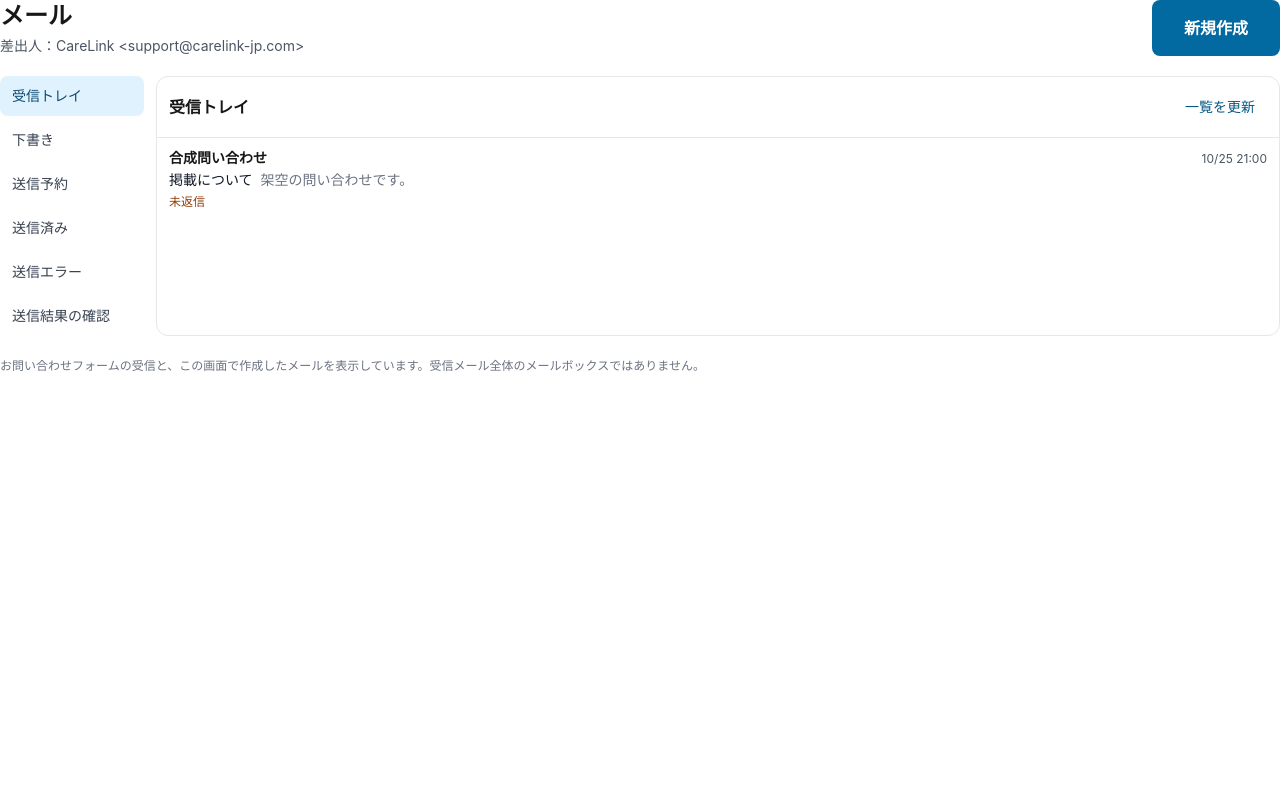
Scenario: unsaved edits are protected from navigation and reload
Check: the button "合成問い合わせ" is shown, box [157,138,1279,220]
Click the button "新規作成". click: (1216, 28)
box: [1152,0,1279,56]
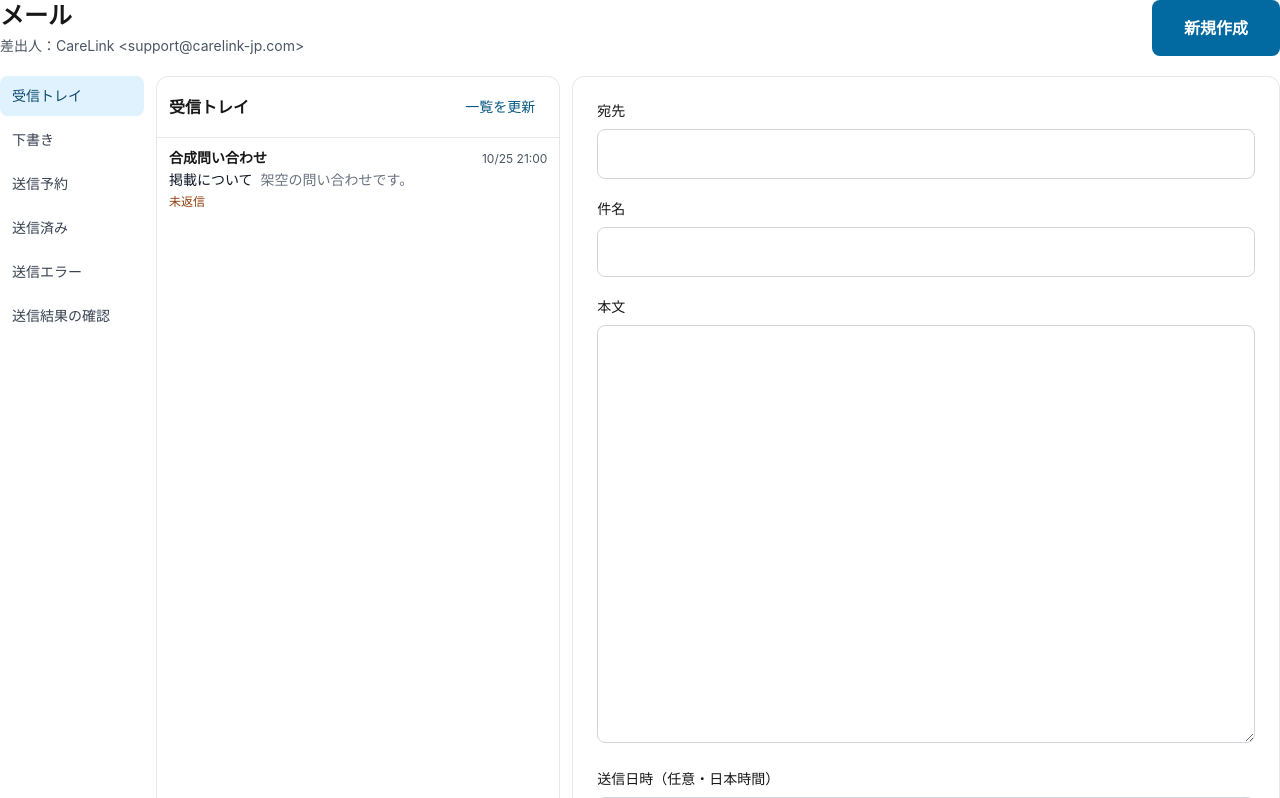
Type "synthetic@example.invalid" into the field labelled "宛先". click: (926, 154)
box: [597,129,1255,179]
Type "ご案内" into the field labelled "件名". click: (926, 252)
box: [597,227,1255,277]
Type "架空の本文" into the text box labelled "本文". click: (926, 534)
box: [597,325,1255,743]
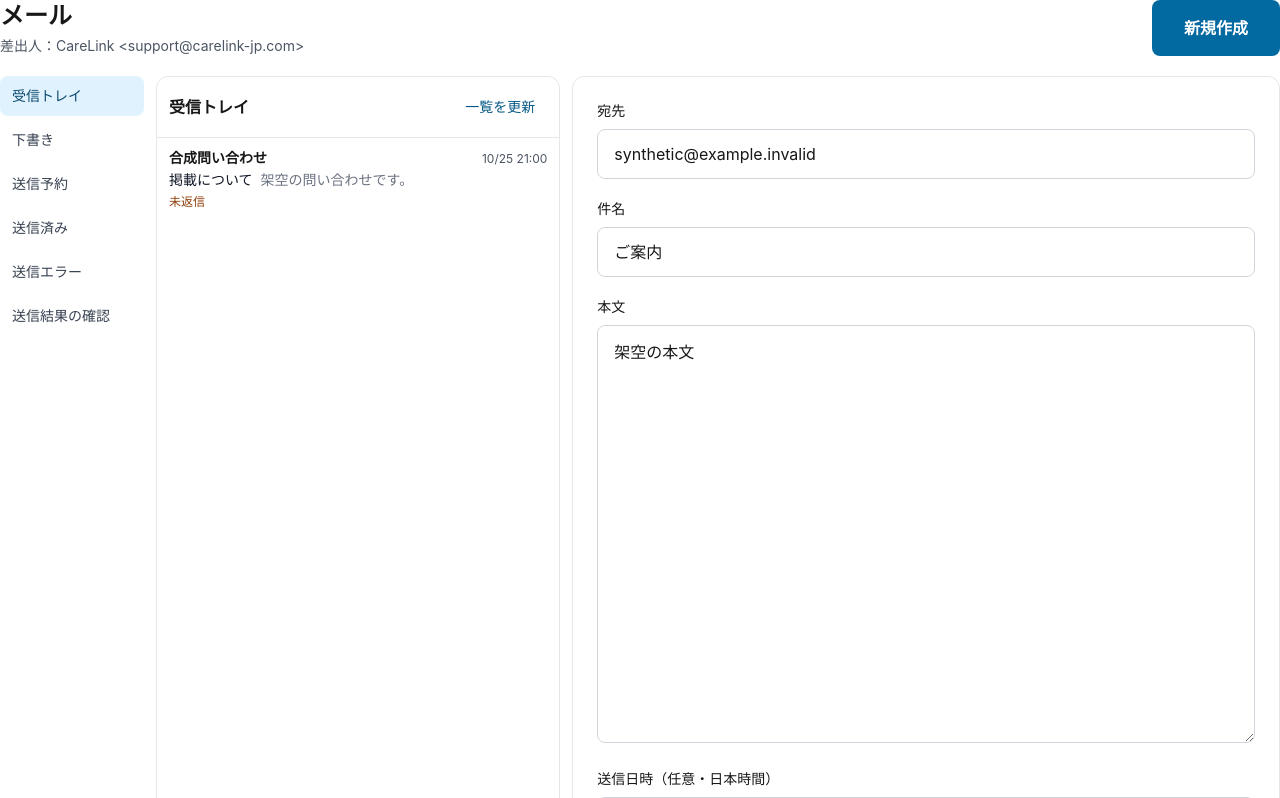
Click the button "下書き". click: (72, 140)
box: [0,120,144,160]
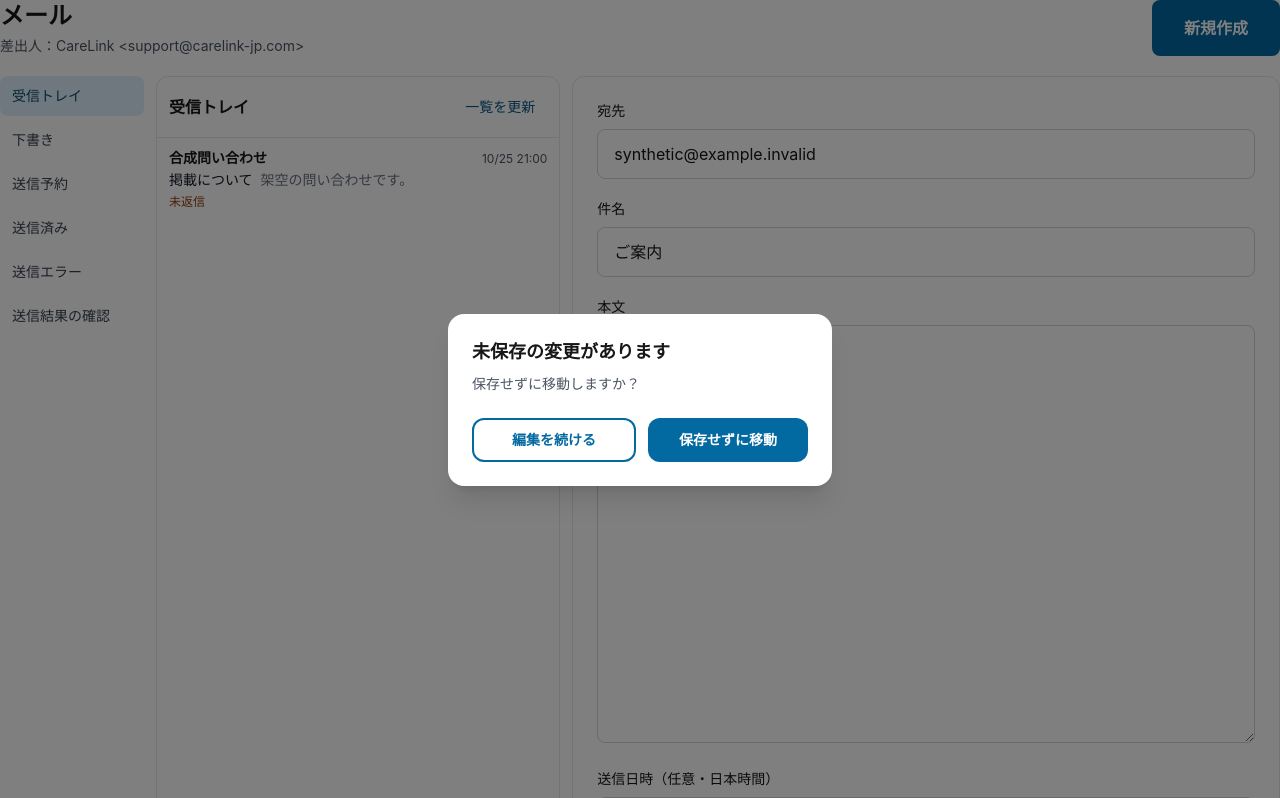
Click the button "編集を続ける". click: (554, 440)
box: [472,418,636,462]
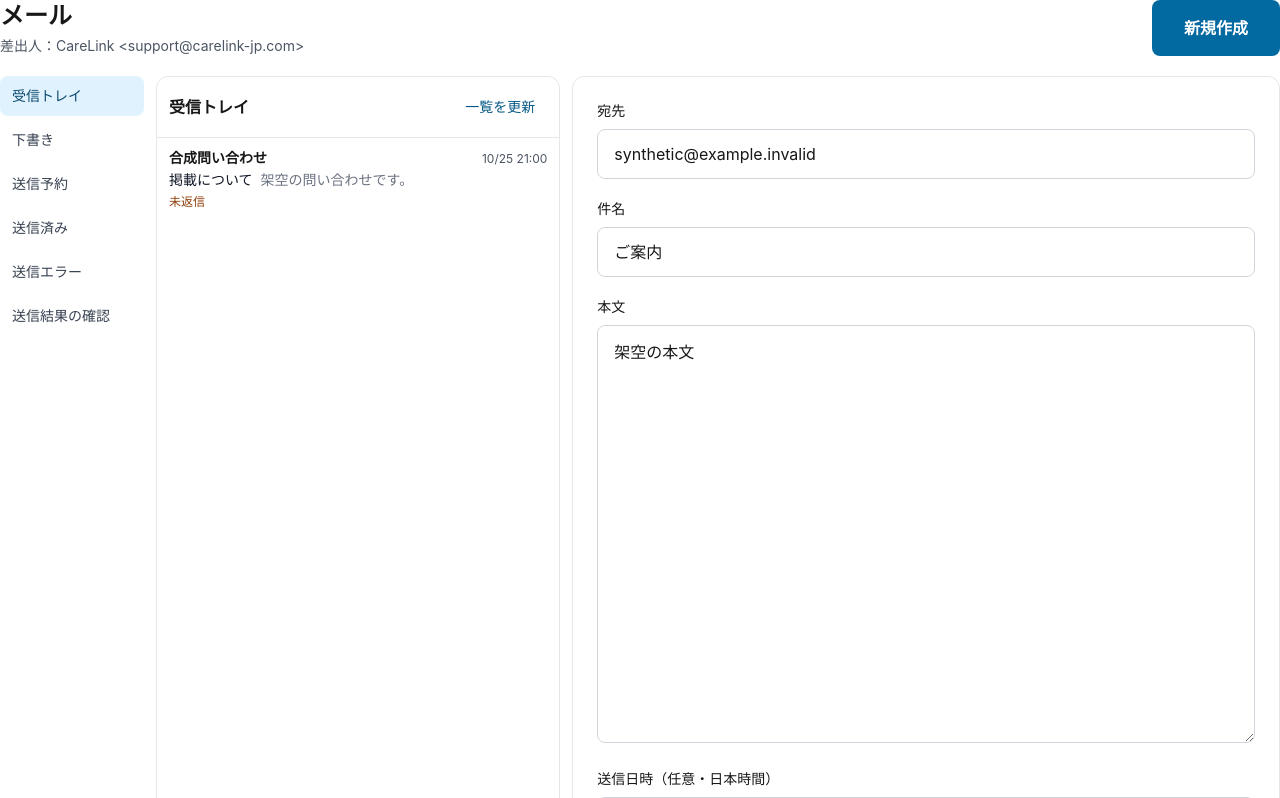
Click the button "下書き". click: (72, 140)
box: [0,120,144,160]
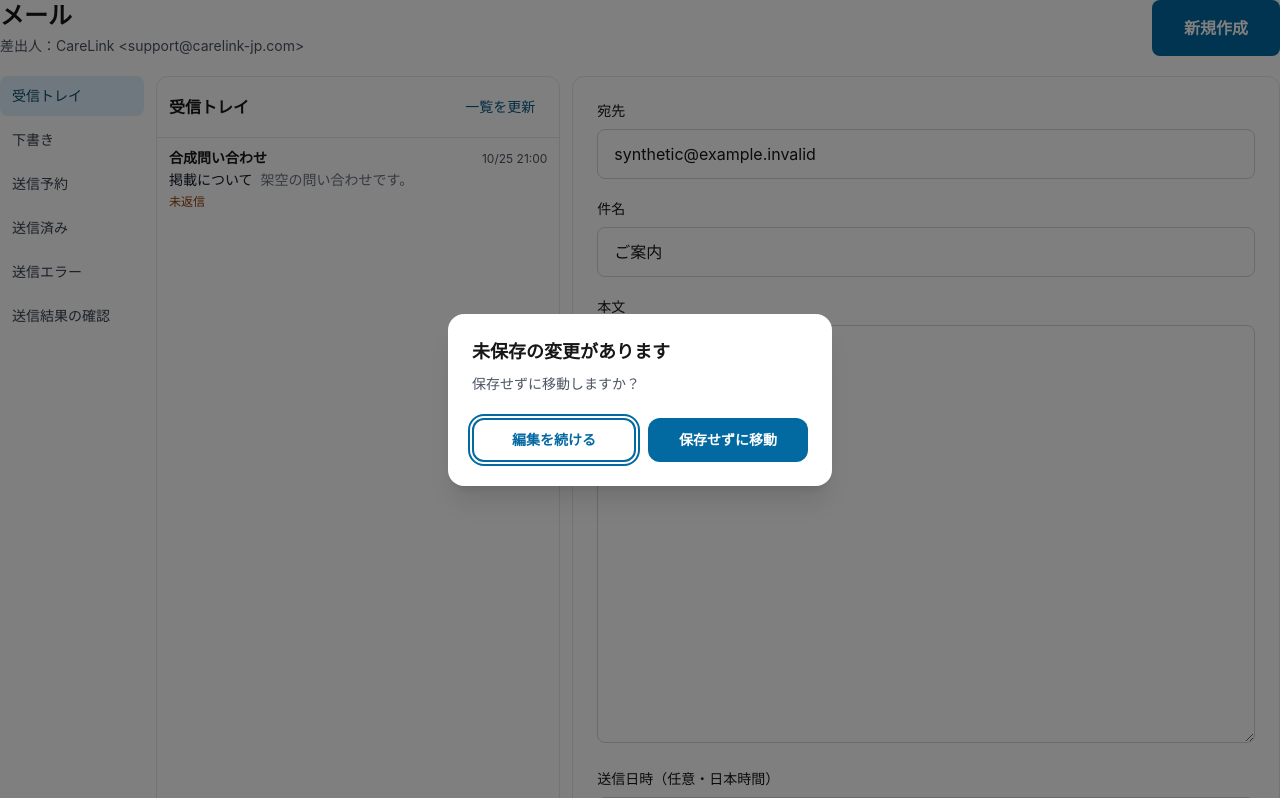
Click the button "保存せずに移動". click: (728, 440)
box: [648,418,808,462]
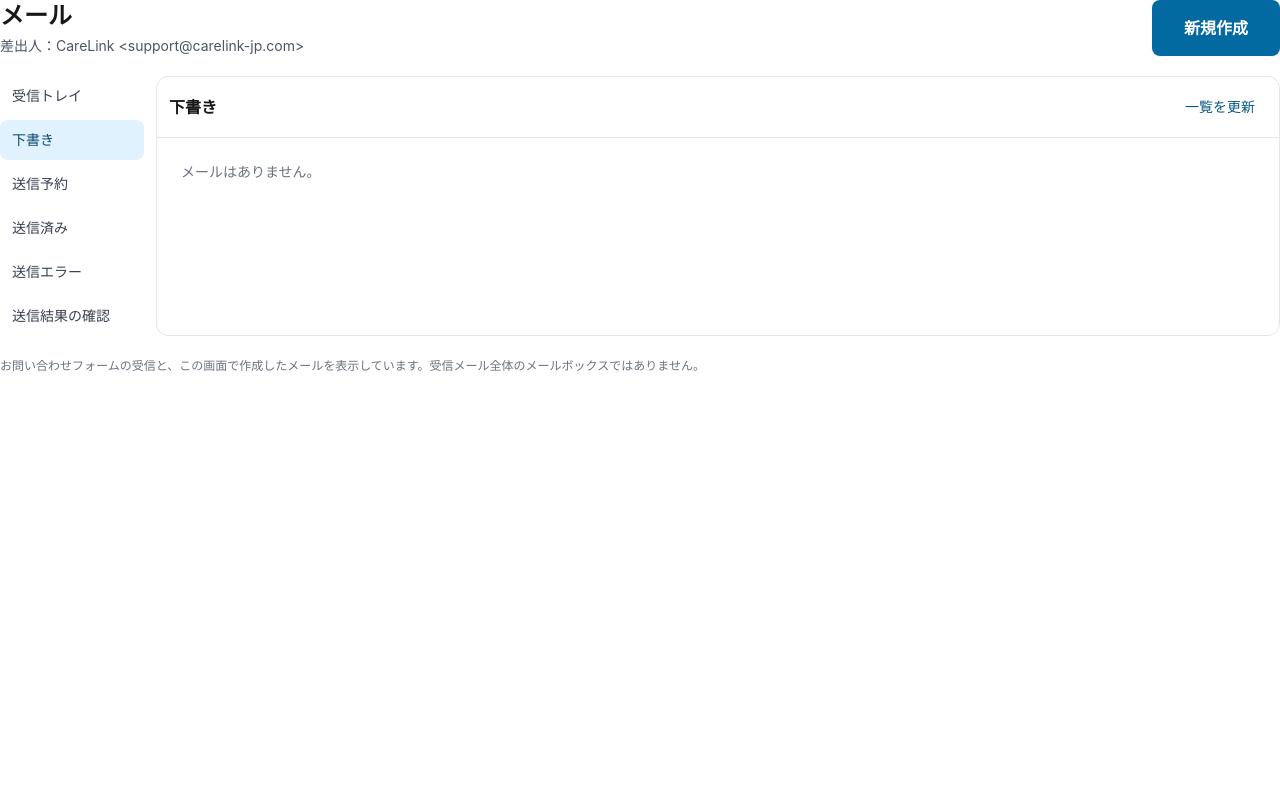
Check: the label labelled "本文" is gone
